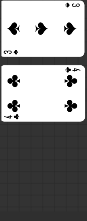4C: (64, 65, 82, 74)
